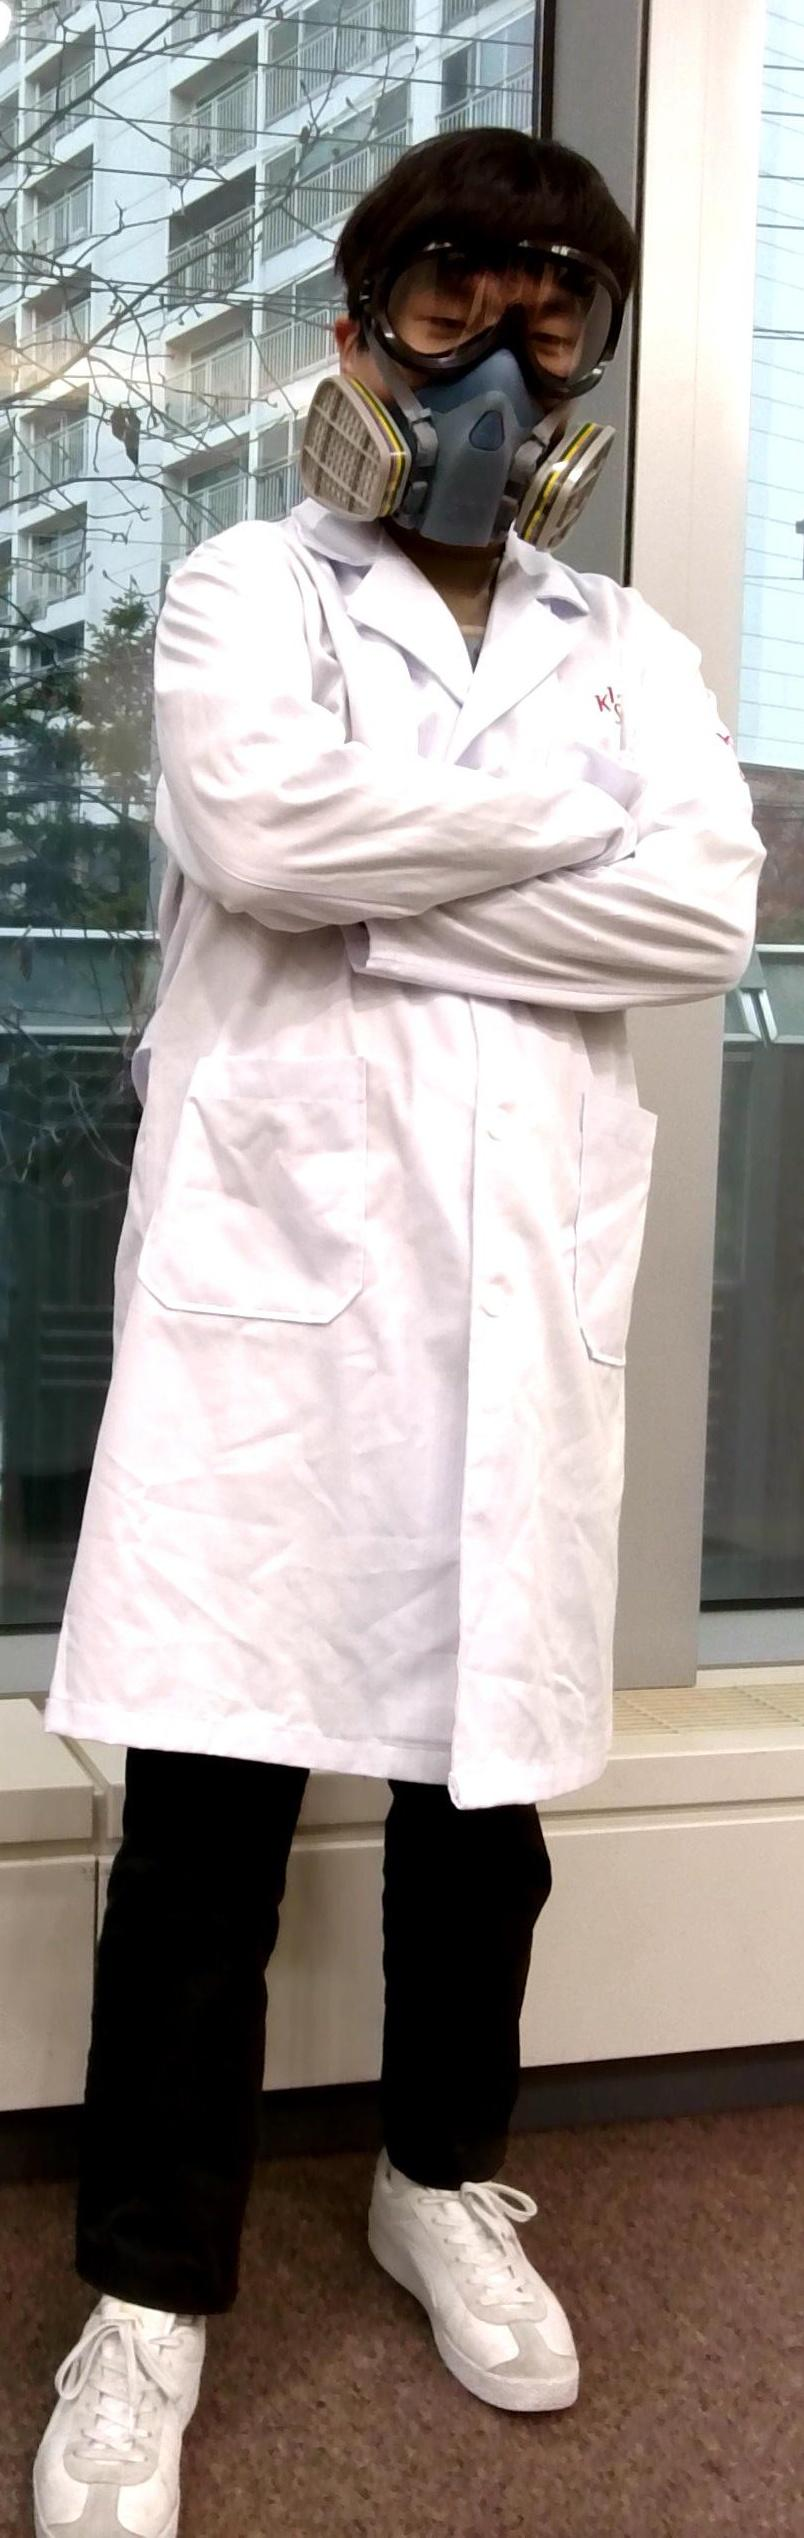lab_coat: (78, 622, 736, 1687)
